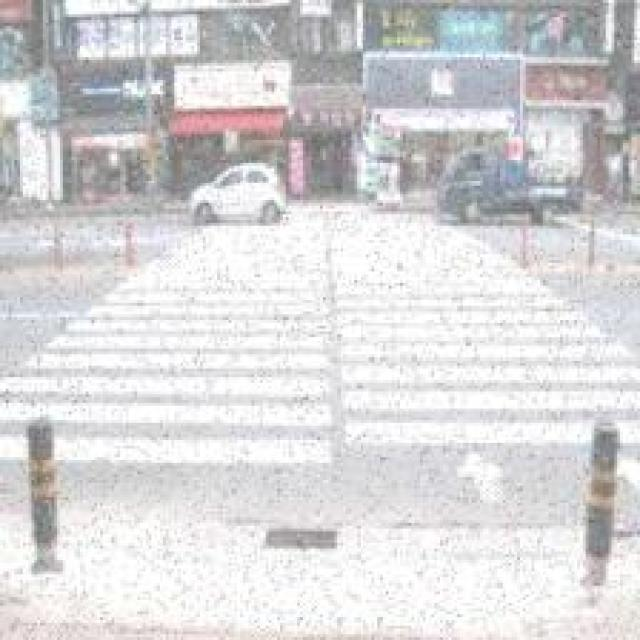walk-crossing: (0, 206, 637, 480)
